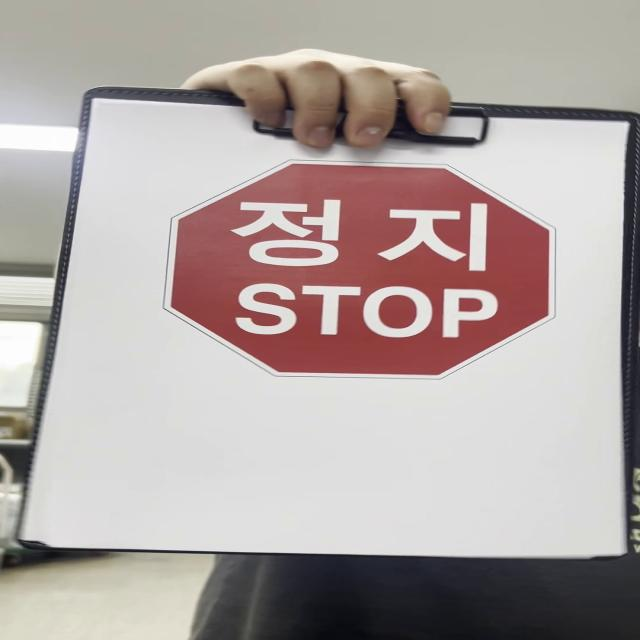stop: (167, 164, 562, 385)
